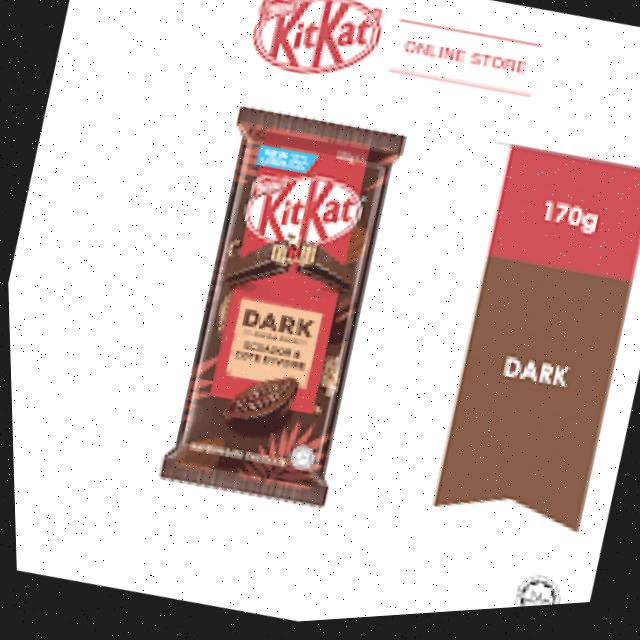kitkat: (152, 98, 416, 520)
